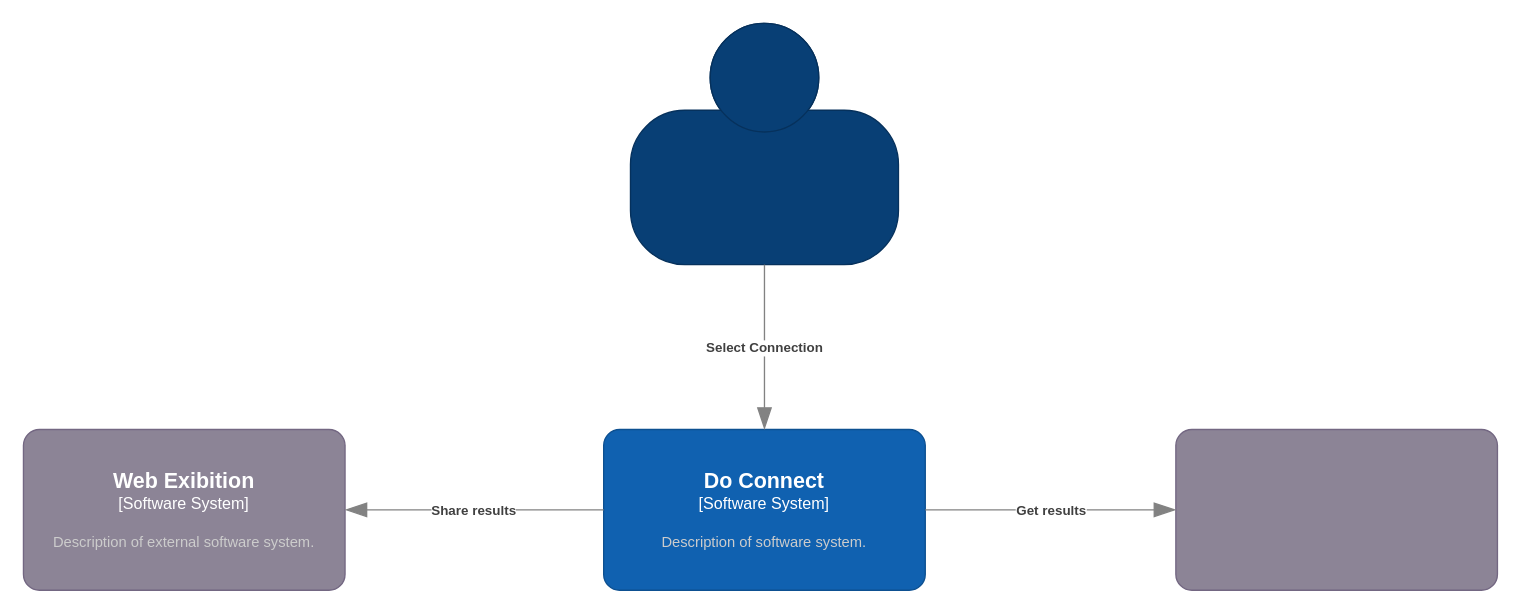
This 1521x614 diagram has some shape labels left out. Here are the shapes that lost their labels. From the top down, the box of each, then its label:
(629, 22, 898, 265): Team Member [Person] Description of person.
(1175, 428, 1497, 590): Analysis Tools [Software System] Description of external software system.
